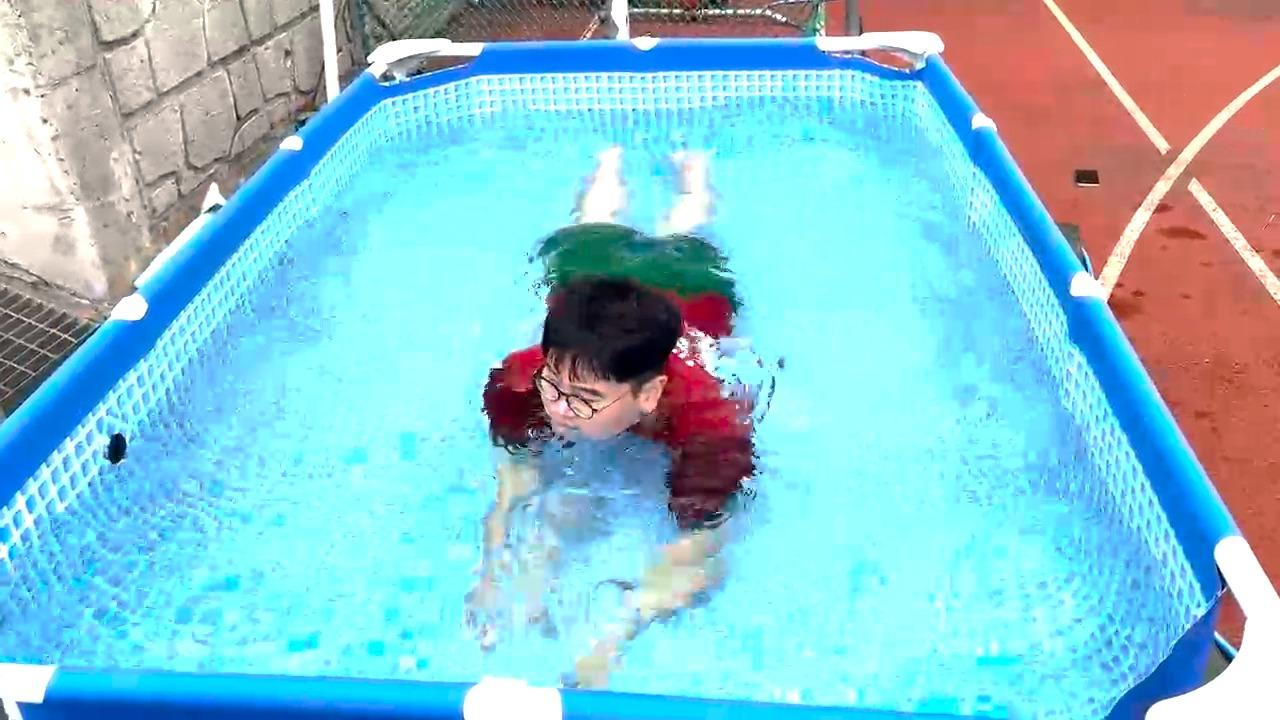Swimming: (414, 106, 841, 674)
